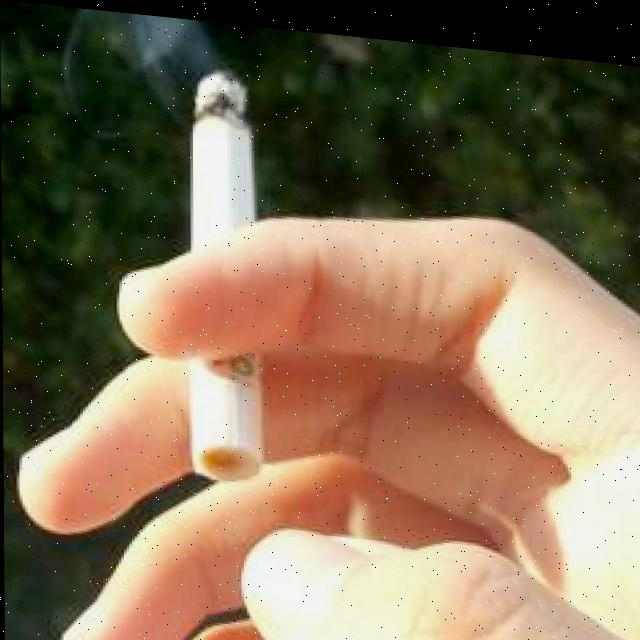cigarette: (189, 62, 262, 479)
